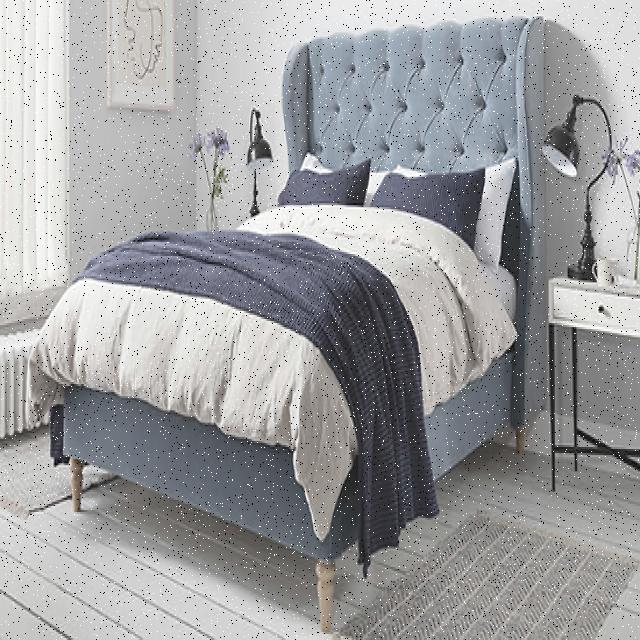bed: (56, 149, 510, 468)
